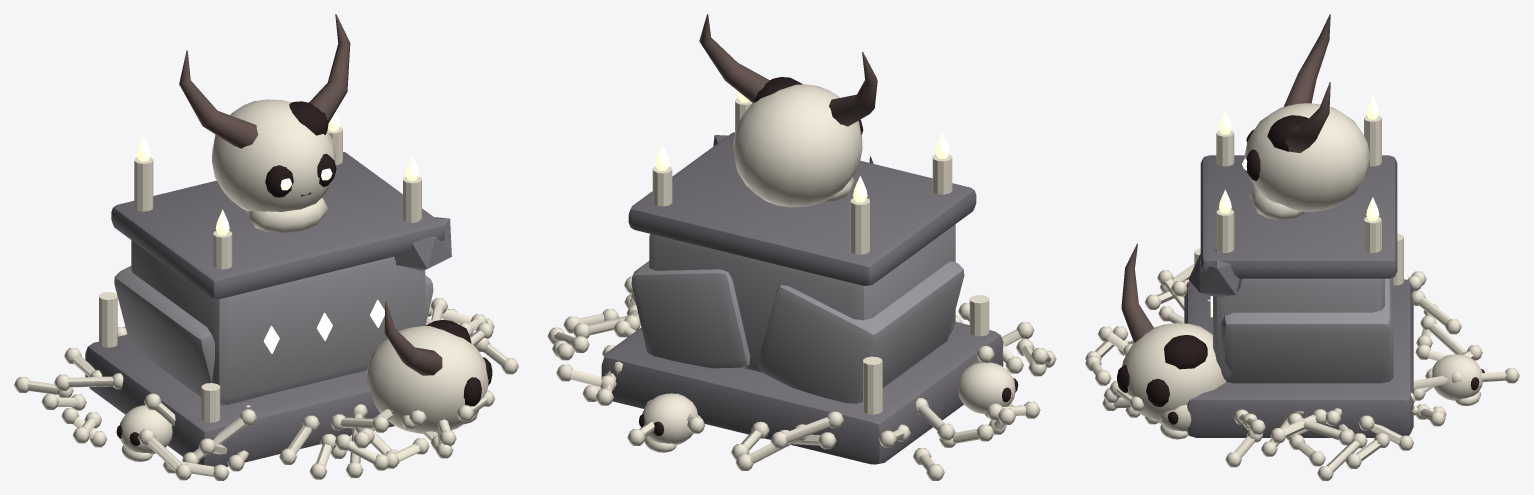
Rendered from gen_bones.glb.
3 renders of one model, left to right at view 1: azimuth 30°, elevation 25°; view 2: azimuth 150°, elevation 25°; view 3: azimuth 270°, elevation 25°, orthographic. The views are drawn at different scales.
Parts seen in each view (by area): view 1: state_0, state_2, state_1; view 2: state_0, state_2, state_1; view 3: state_0, state_2, state_1.
Boxes of the visible parts, left/top/right/bottom form: state_0: left=14, top=14, right=518, bottom=480; state_2: left=99, top=266, right=492, bottom=463; state_1: left=54, top=101, right=494, bottom=480; state_0: left=556, top=14, right=1046, bottom=480; state_2: left=552, top=156, right=1023, bottom=414; state_1: left=547, top=77, right=1056, bottom=470; state_0: left=1085, top=14, right=1484, bottom=467; state_2: left=1098, top=233, right=1461, bottom=468; state_1: left=1102, top=115, right=1519, bottom=480.
Bounding box in the file's own units: 1.17 × 0.925 × 1.06.
